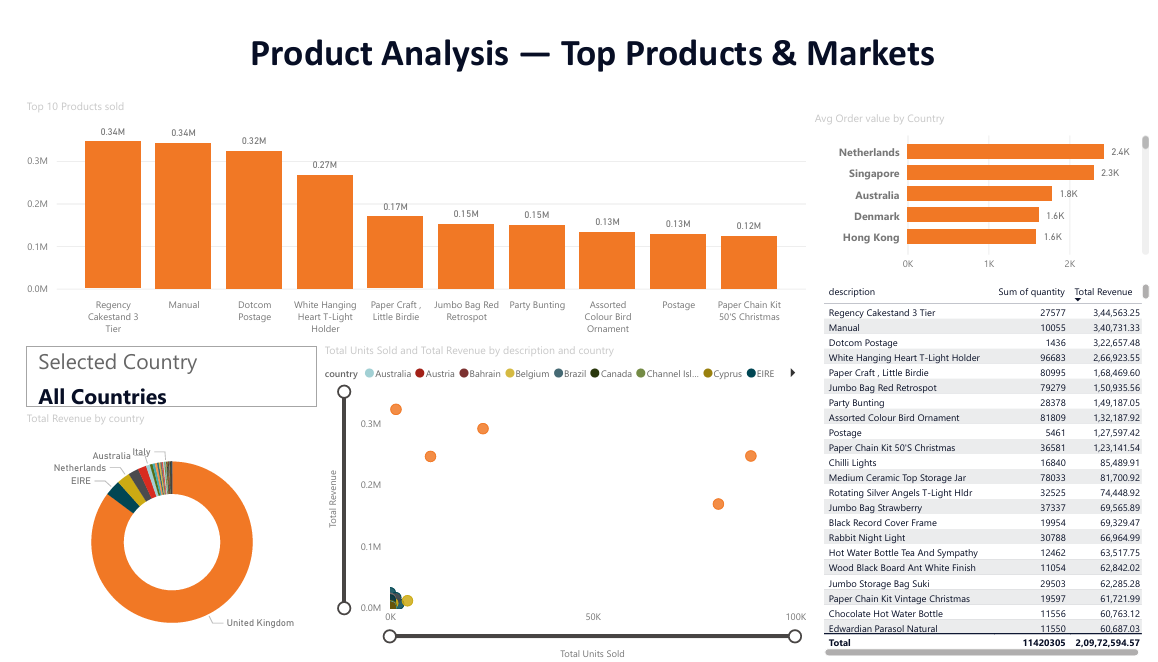

What the dashboard file says about the page in this screenshot:
{"tool":"powerbi","page":{"name":"Product Analysis","canvas":[1280,720],"ordinal":1},"visuals":[{"type":"clusteredColumnChart","title":"Top 10 Products sold","fields":{"Category":["retail.description"],"Y":["retail.Total Revenue"]},"box":[0,84.4,891.4,275.1],"z":0},{"type":"donutChart","fields":{"Category":["retail.country"],"Y":["retail.Total Revenue"]},"box":[0,437.8,338.7,282.5],"z":1000},{"type":"tableEx","fields":{"Values":["retail.description","Sum(retail.quantity)","retail.Total Revenue"]},"box":[901.5,288.2,378.7,432.2],"z":2000},{"type":"textbox","box":[9.8,0,1270.5,84.4],"z":3000},{"type":"clusteredBarChart","title":"Avg Order value by Country","fields":{"Y":["retail.Avg Order Value"],"Category":["retail.country"]},"box":[891.9,97.4,388.3,190.7],"z":4000},{"type":"cardVisual","fields":{"Data":["retail.Selected Country"]},"box":[0,359.5,338.7,78.3],"z":5000},{"type":"scatterChart","fields":{"X":["retail.Total Units Sold"],"Y":["retail.Total Revenue"],"Series":["retail.country"],"Category":["retail.description"]},"box":[337.6,359.6,554.1,359.6],"z":6000}]}

Visuals, with their boxes in screenshot pixels (x1, y1, x2, y2), scaled from the page's 1280x720 canvas onto the 1158x662 screenshot:
"Top 10 Products sold" clusteredColumnChart: 0, 78, 806, 331
donutChart - retail.country x retail.Total Revenue: 0, 403, 306, 661
tableEx - retail.description x Sum(retail.quantity): 816, 265, 1157, 661
textbox: 9, 0, 1157, 78
"Avg Order value by Country" clusteredBarChart: 807, 90, 1157, 265
cardVisual - retail.Selected Country: 0, 331, 306, 403
scatterChart - retail.Total Units Sold x retail.Total Revenue: 305, 331, 807, 661
